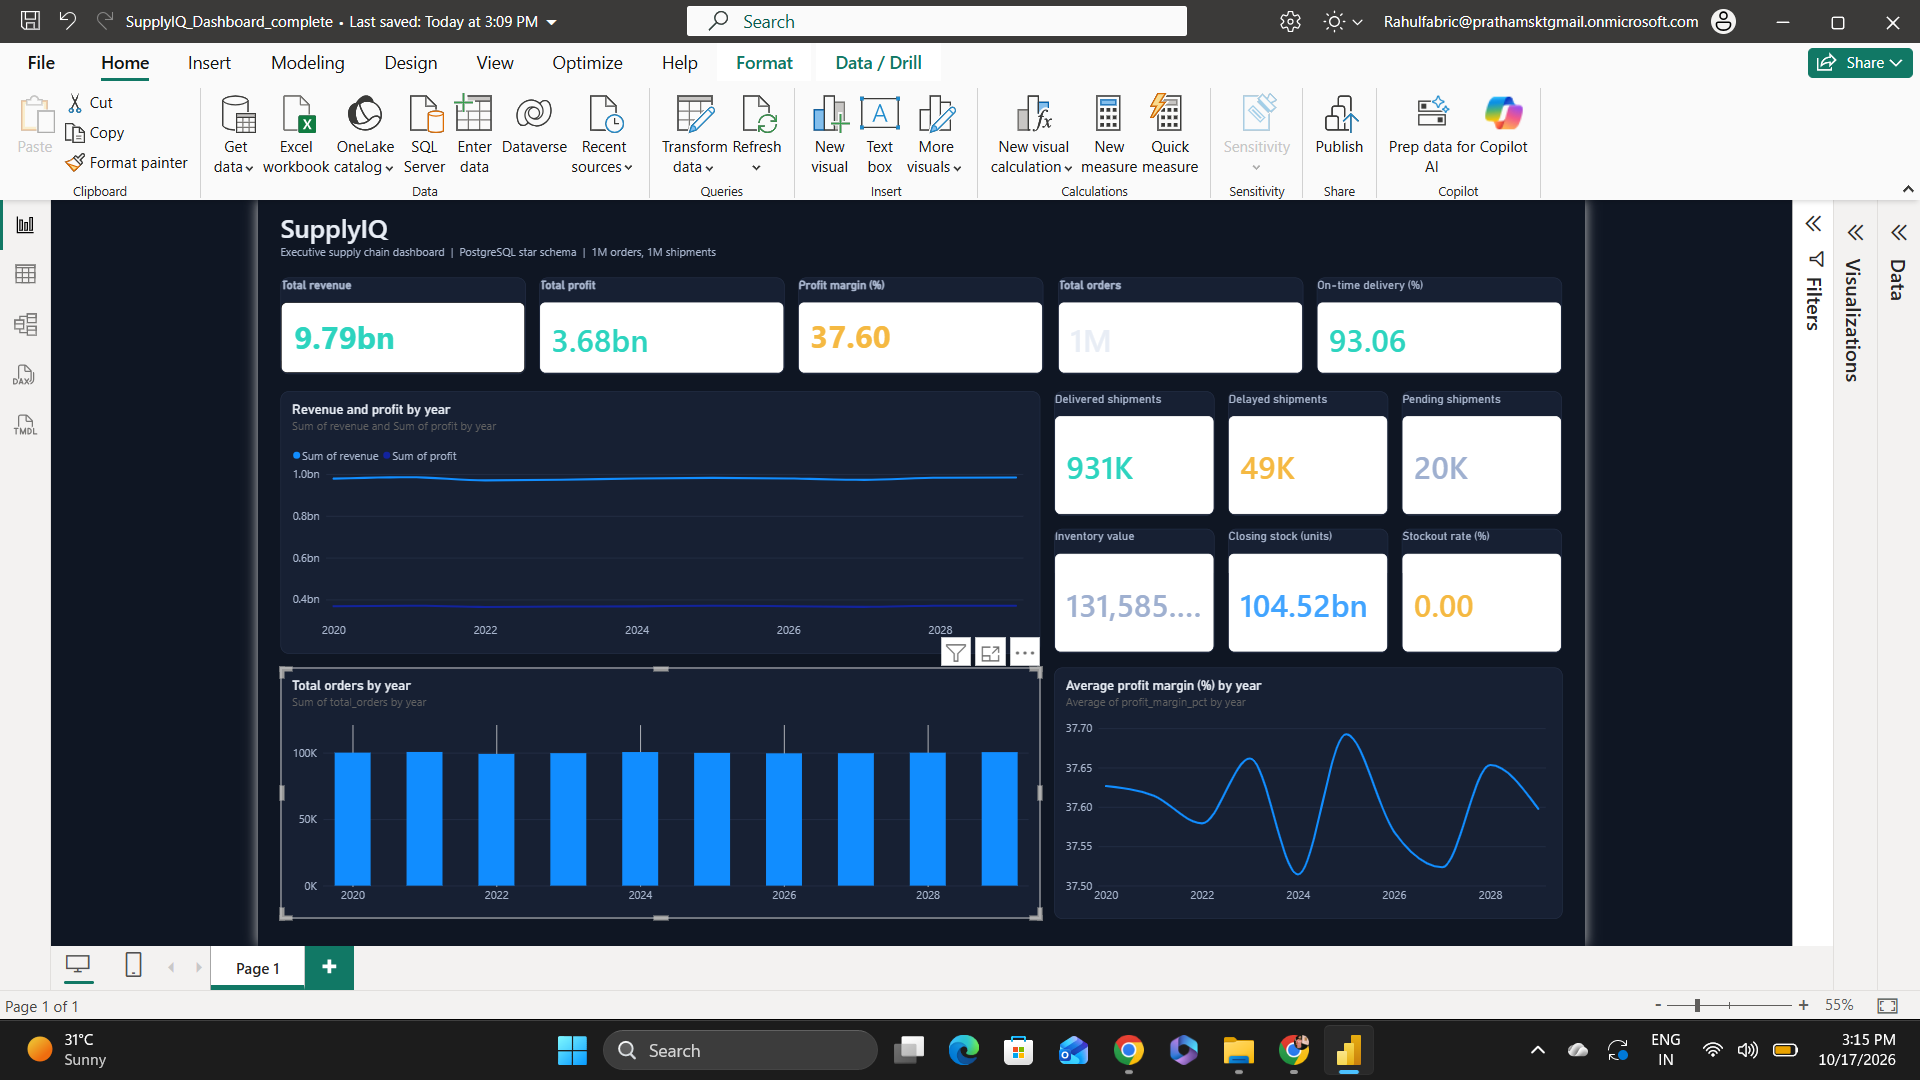

Layout of this report page (visuals, bound fields, positions):
{"tool":"powerbi","page":{"name":"Page 1","canvas":[1920,1080],"ordinal":0},"visuals":[{"type":"textbox","box":[32,14,1400,80],"z":100},{"type":"cardVisual","title":"Total revenue","fields":{"Data":["Sum(supplyiq vw_executive_kpis.total_revenue)"]},"box":[32,112,355.2,140],"z":1100},{"type":"cardVisual","title":"Total profit","fields":{"Data":["Sum(supplyiq vw_executive_kpis.total_profit)"]},"box":[407.2,112,355.2,140],"z":1200},{"type":"cardVisual","title":"Profit margin (%)","fields":{"Data":["Sum(supplyiq vw_executive_kpis.profit_margin_pct)"]},"box":[782.4,112,355.2,140],"z":1300},{"type":"cardVisual","title":"Total orders","fields":{"Data":["Sum(supplyiq vw_executive_kpis.total_orders)"]},"box":[1157.6,112,355.2,140],"z":1400},{"type":"cardVisual","title":"Delivered shipments","fields":{"Data":["Sum(supplyiq vw_delivery_performance.delivered_shipments)"]},"box":[1152,276,232,180],"z":1500},{"type":"cardVisual","title":"Delayed shipments","fields":{"Data":["Sum(supplyiq vw_delivery_performance.delayed_shipments)"]},"box":[1404,276,232,180],"z":1600},{"type":"cardVisual","title":"Pending shipments","fields":{"Data":["Sum(supplyiq vw_delivery_performance.pending_shipments)"]},"box":[1656,276,232,180],"z":1700},{"type":"cardVisual","title":"On-time delivery (%)","fields":{"Data":["Sum(supplyiq vw_delivery_performance.delivery_success_pct)"]},"box":[1532.8,112,355.2,140],"z":1800},{"type":"cardVisual","title":"Inventory value","fields":{"Data":["Sum(supplyiq vw_inventory_health.total_inventory_value)"]},"box":[1152,476,232,180],"z":1900},{"type":"cardVisual","title":"Closing stock (units)","fields":{"Data":["Sum(supplyiq vw_inventory_health.total_closing_stock)"]},"box":[1404,476,232,180],"z":2000},{"type":"cardVisual","title":"Stockout rate (%)","fields":{"Data":["Sum(supplyiq vw_inventory_health.stockout_rate_pct)"]},"box":[1656,476,232,180],"z":2100},{"type":"lineChart","title":"Revenue and profit by year","fields":{"Category":["supplyiq vw_monthly_executive_performance.year"],"Y":["Sum(supplyiq vw_monthly_executive_performance.revenue)","Sum(supplyiq vw_monthly_executive_performance.profit)"]},"box":[32,276,1100,380],"z":3000},{"type":"clusteredColumnChart","title":"Total orders by year","fields":{"Category":["supplyiq vw_monthly_executive_performance.year"],"Y":["Sum(supplyiq vw_monthly_executive_performance.total_orders)"]},"box":[32,676,1100,364],"z":3100},{"type":"lineChart","title":"Average profit margin (%) by year","fields":{"Category":["supplyiq vw_monthly_executive_performance.year"],"Y":["Average(supplyiq vw_monthly_executive_performance.profit_margin_pct)"]},"box":[1152,676,736,364],"z":3200}]}

Visuals, with their boxes on the page's 1920x1080 design canvas (x1, y1, x2, y2). These are canvas units, not pixel positions in the 1920x1080 screenshot, which may show the page scaled, cropped or inside an application window:
textbox: 32,14,1432,94
"Total revenue" cardVisual: 32,112,387,252
"Total profit" cardVisual: 407,112,762,252
"Profit margin (%)" cardVisual: 782,112,1138,252
"Total orders" cardVisual: 1158,112,1513,252
"Delivered shipments" cardVisual: 1152,276,1384,456
"Delayed shipments" cardVisual: 1404,276,1636,456
"Pending shipments" cardVisual: 1656,276,1888,456
"On-time delivery (%)" cardVisual: 1533,112,1888,252
"Inventory value" cardVisual: 1152,476,1384,656
"Closing stock (units)" cardVisual: 1404,476,1636,656
"Stockout rate (%)" cardVisual: 1656,476,1888,656
"Revenue and profit by year" lineChart: 32,276,1132,656
"Total orders by year" clusteredColumnChart: 32,676,1132,1040
"Average profit margin (%) by year" lineChart: 1152,676,1888,1040
